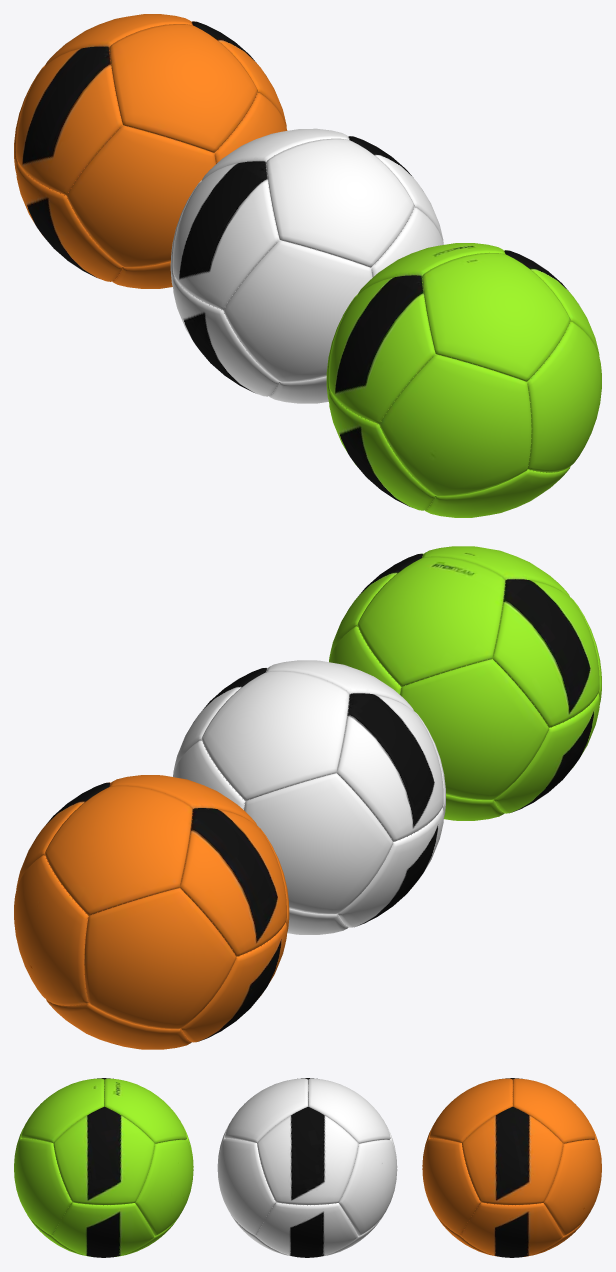
File: OrangeAndBlackBall.glb
The picture shows the model from 3 angles, top to bottom: view 1: azimuth 30°, elevation 25°; view 2: azimuth 150°, elevation 25°; view 3: azimuth 270°, elevation 25°; orthographic projection. The views are drawn at different scales.
Parts seen in each view (by area): view 1: Ball_Green, Ball_Orange, Ball_White; view 2: Ball_Orange, Ball_White, Ball_Green; view 3: Ball_Orange, Ball_Green, Ball_White.
Boxes of the visible parts, left/top/right/bottom form: Ball_Green: left=326, top=243, right=601, bottom=517; Ball_Orange: left=14, top=14, right=287, bottom=288; Ball_White: left=170, top=128, right=443, bottom=403; Ball_Orange: left=14, top=775, right=289, bottom=1049; Ball_White: left=173, top=660, right=445, bottom=934; Ball_Green: left=329, top=546, right=601, bottom=820; Ball_Orange: left=422, top=1078, right=601, bottom=1257; Ball_Green: left=14, top=1078, right=193, bottom=1257; Ball_White: left=217, top=1078, right=397, bottom=1257.
Size of the model in its own units: 0.2496 by 0.2499 by 0.8175.
3 materials, 3 textured.
